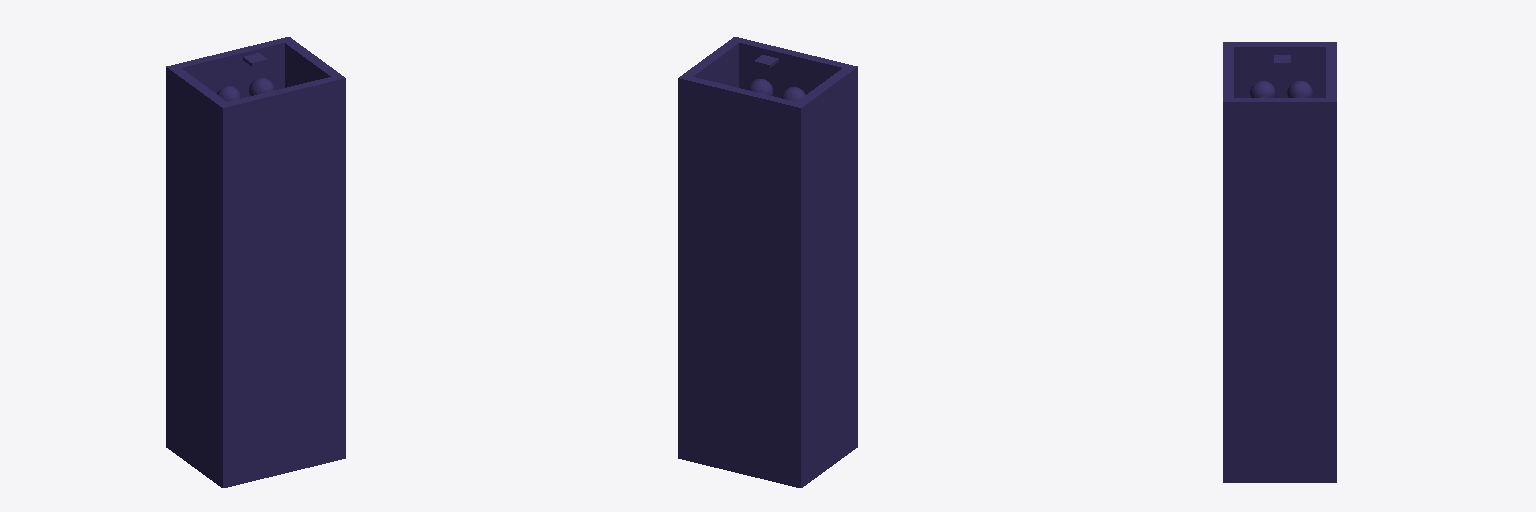
The model's file is buraco9.obj.
The picture shows the model from 3 angles: view 1: azimuth 30°, elevation 25°; view 2: azimuth 150°, elevation 25°; view 3: azimuth 270°, elevation 25°; orthographic projection.
Visible parts, largest first — view 1: buraco3; view 2: buraco3; view 3: buraco3.
Part boxes in pixels (bbox=[...]): buraco3: bbox=[166, 37, 345, 487]; buraco3: bbox=[678, 37, 857, 487]; buraco3: bbox=[1223, 42, 1336, 482].
Bounding box in the file's own units: 156 × 475 × 124.